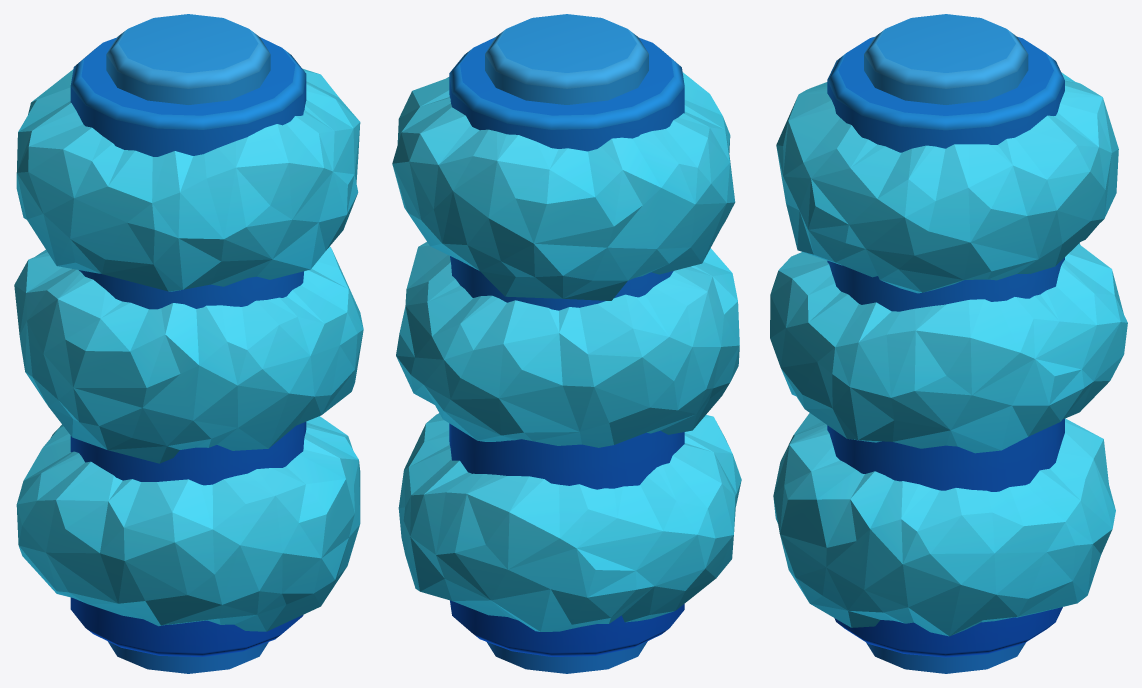
File: obstacle_10_001.fbx
3 views of the same model, side by side, from view 1: azimuth 30°, elevation 25°; view 2: azimuth 150°, elevation 25°; view 3: azimuth 270°, elevation 25° (orthographic).
Visible parts, largest first — view 1: obstacle_10_001; view 2: obstacle_10_001; view 3: obstacle_10_001.
Boxes of the visible parts, x1=… form: obstacle_10_001: x1=14, y1=14, x2=363, y2=673; obstacle_10_001: x1=392, y1=14, x2=741, y2=673; obstacle_10_001: x1=770, y1=14, x2=1127, y2=673.
Size of the model in its own units: 111 by 109 by 200.
